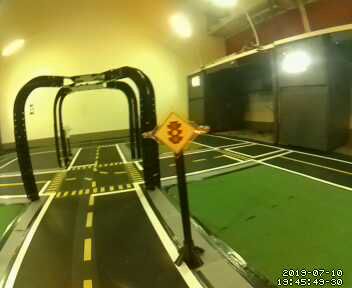Traffic light sign: (153, 110, 196, 153)
